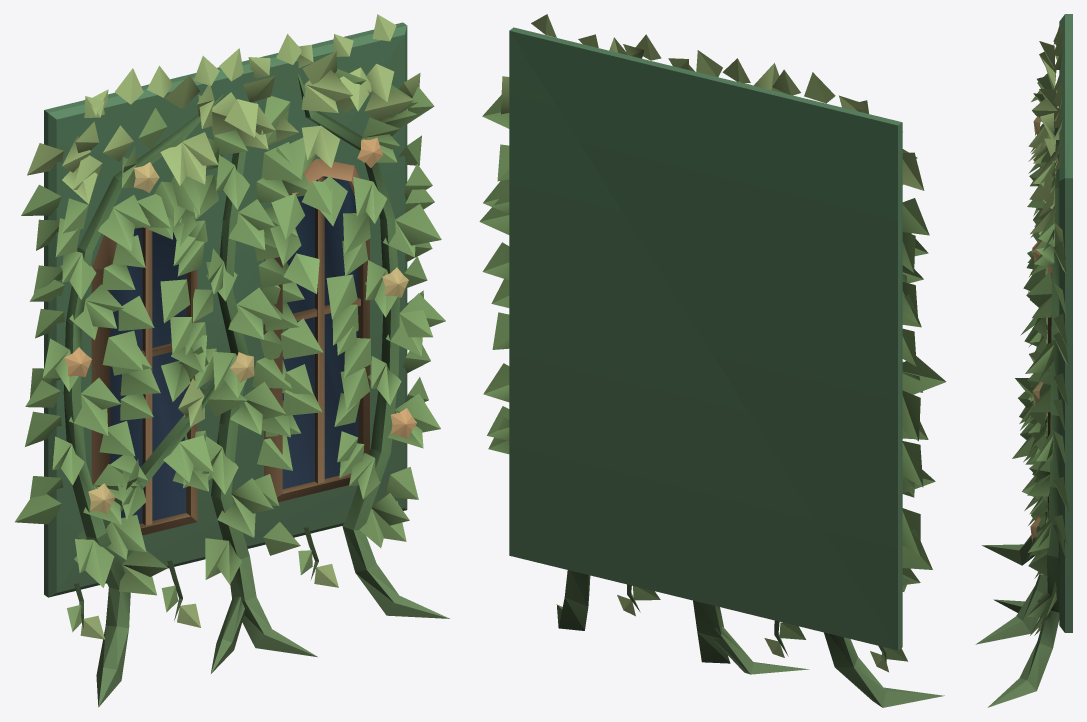
Rendered from vine.glb.
3 views of the same model, side by side, from view 1: azimuth 30°, elevation 25°; view 2: azimuth 150°, elevation 25°; view 3: azimuth 270°, elevation 25° (orthographic). The views are drawn at different scales.
Parts seen in each view (by area): view 1: vine; view 2: vine; view 3: vine.
Part boxes in pixels (<box>): vine: <box>15,14,449,707</box>; vine: <box>479,14,946,707</box>; vine: <box>975,14,1072,707</box>.
Bounding box in the file's own units: 2.34 × 3.14 × 0.5023.
